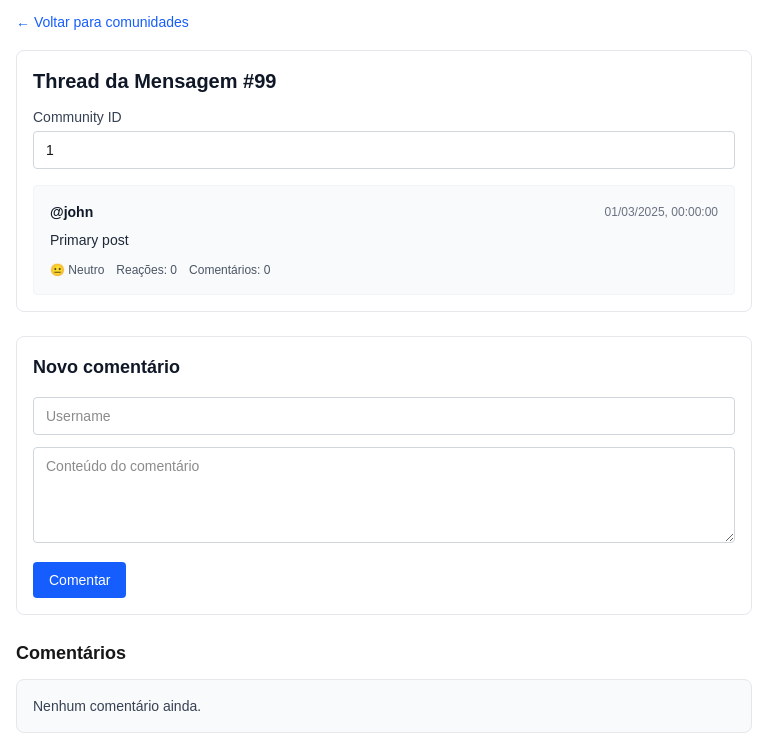
Test: MessageThreadPage › should keep form disabled text while submitting comment
The width and height of the screenshot is (769, 746).
Expected: the text "Primary post" is shown, left=50, top=232, right=129, bottom=248
Type "maria" into the field with placeholder "Username" at {"x": 384, "y": 416}, box left=33, top=397, right=735, bottom=435
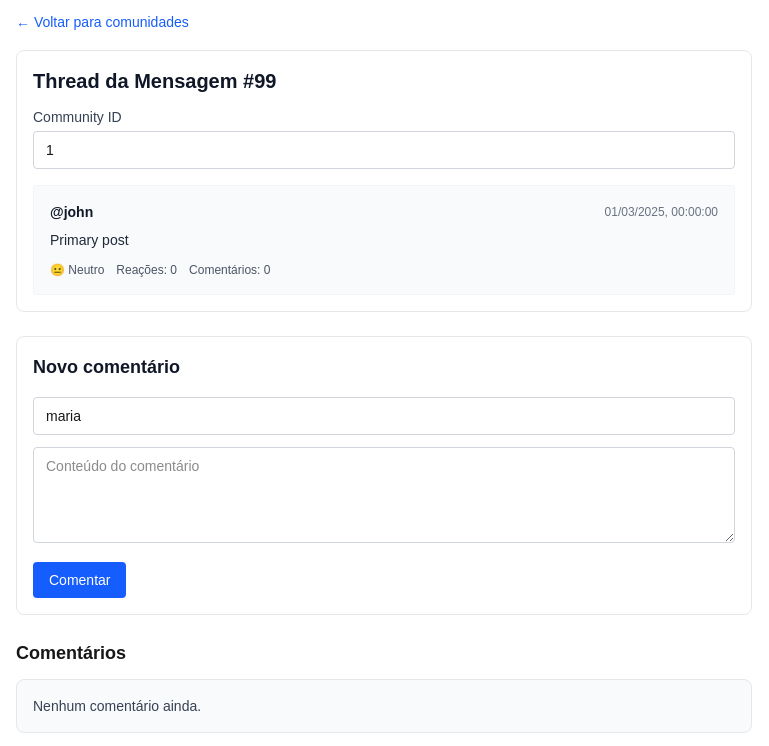
Type "Pending" into the text box with placeholder "Conteúdo do comentário" at {"x": 384, "y": 495}, box left=33, top=447, right=735, bottom=543
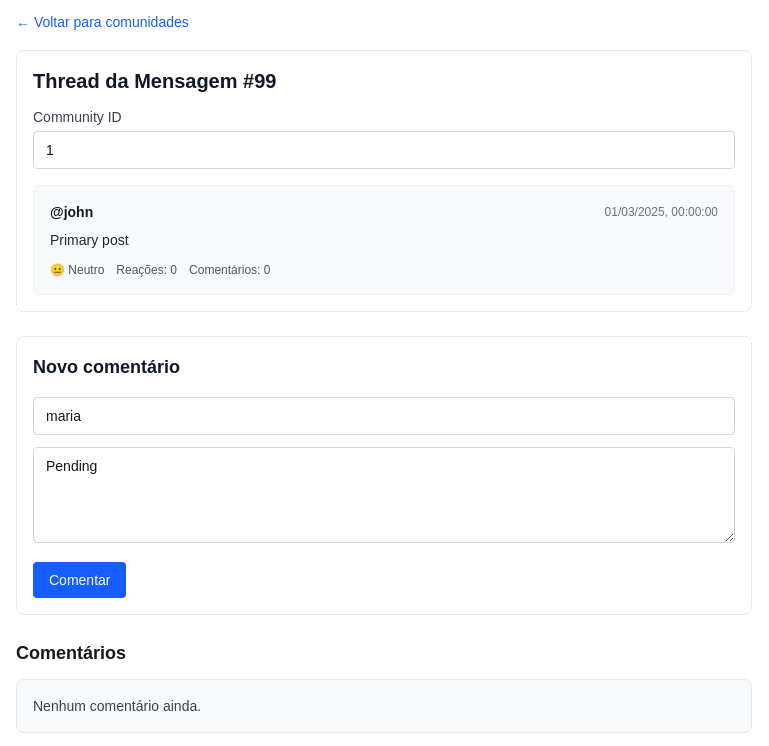
Click the button "Comentar" at {"x": 80, "y": 580}, box left=33, top=562, right=126, bottom=598
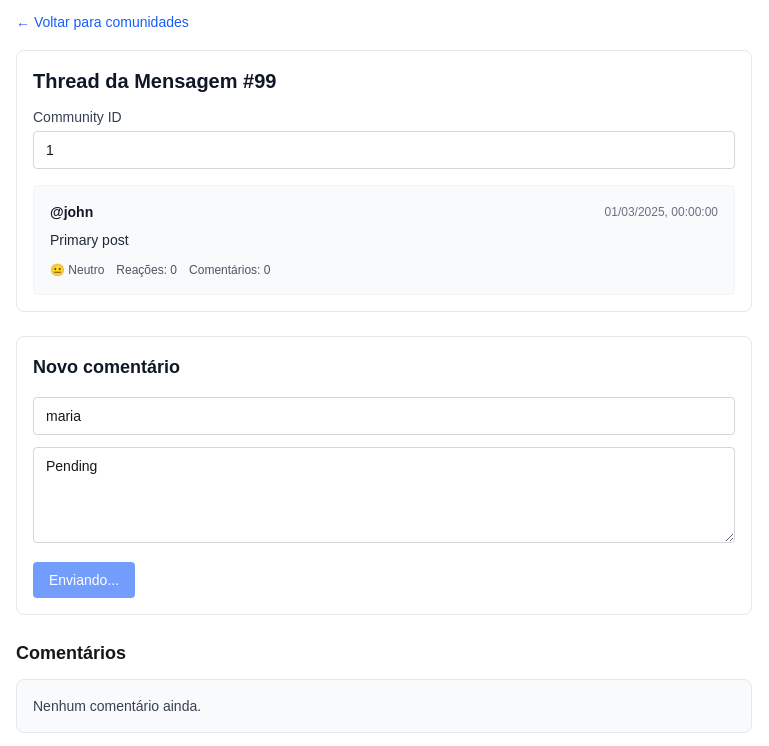
Expected: the button "Enviando..." is shown, left=33, top=562, right=135, bottom=598
